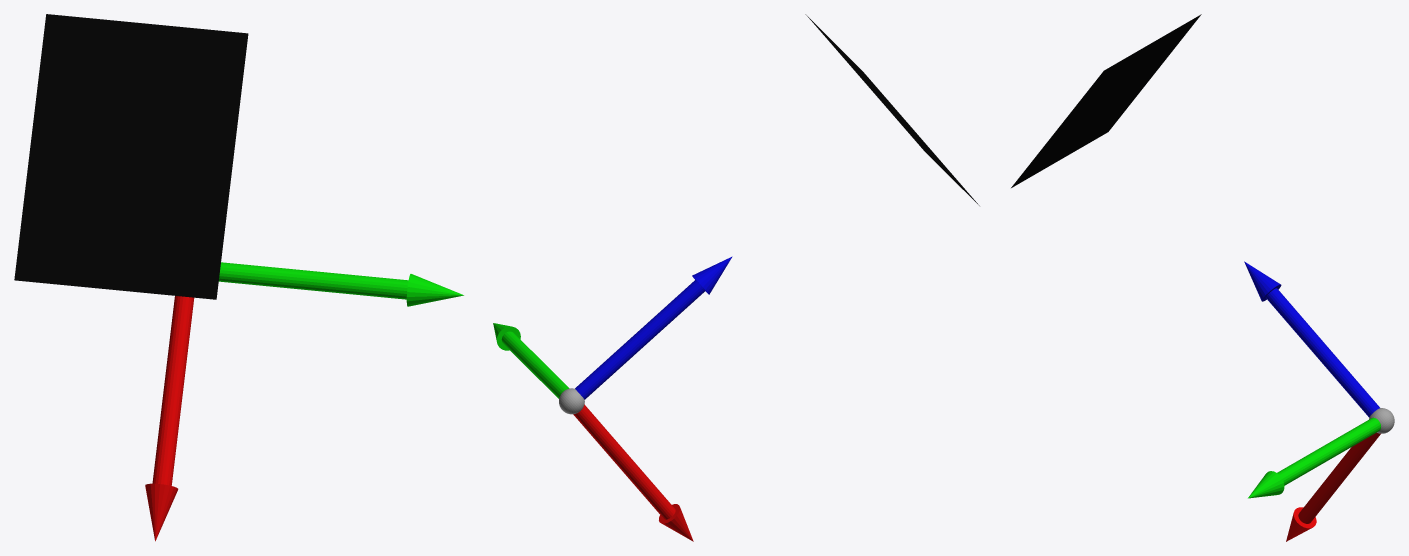
3 views of the same model, side by side, from view 1: azimuth 30°, elevation 25°; view 2: azimuth 150°, elevation 25°; view 3: azimuth 270°, elevation 25° (orthographic). The views are drawn at different scales.
Size of the model in its own units: 0.2788 by 0.2994 by 0.2235.
